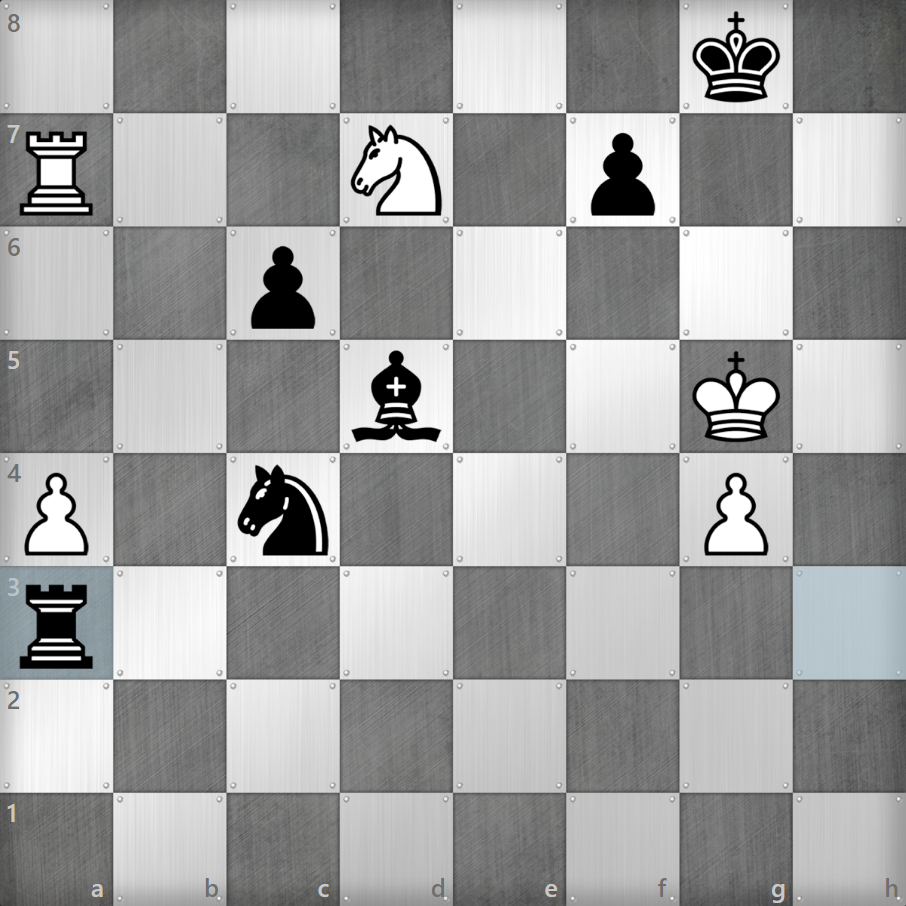K: (691, 346, 782, 446)
N: (349, 122, 446, 220)
P: (700, 470, 771, 559), (26, 470, 90, 561)
R: (17, 126, 97, 218)
b: (348, 347, 444, 447)
k: (691, 9, 780, 107)
n: (236, 463, 331, 561)
p: (246, 240, 318, 334), (591, 130, 658, 222)
r: (21, 579, 95, 672)
